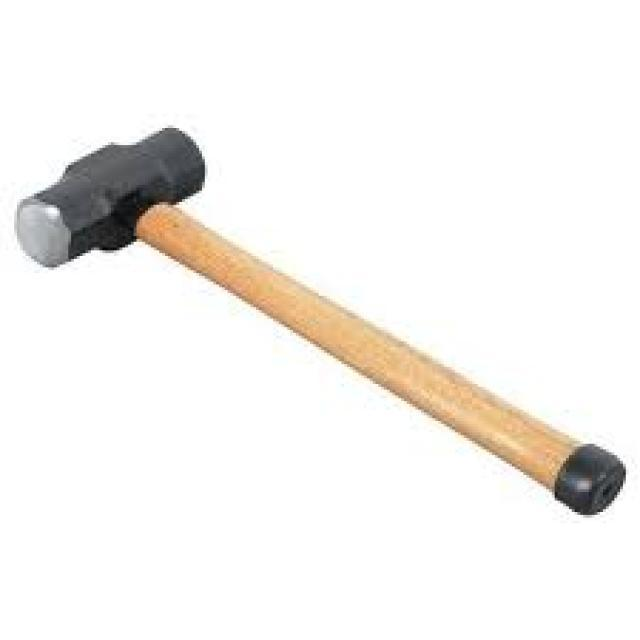Palu: (21, 104, 620, 536)
